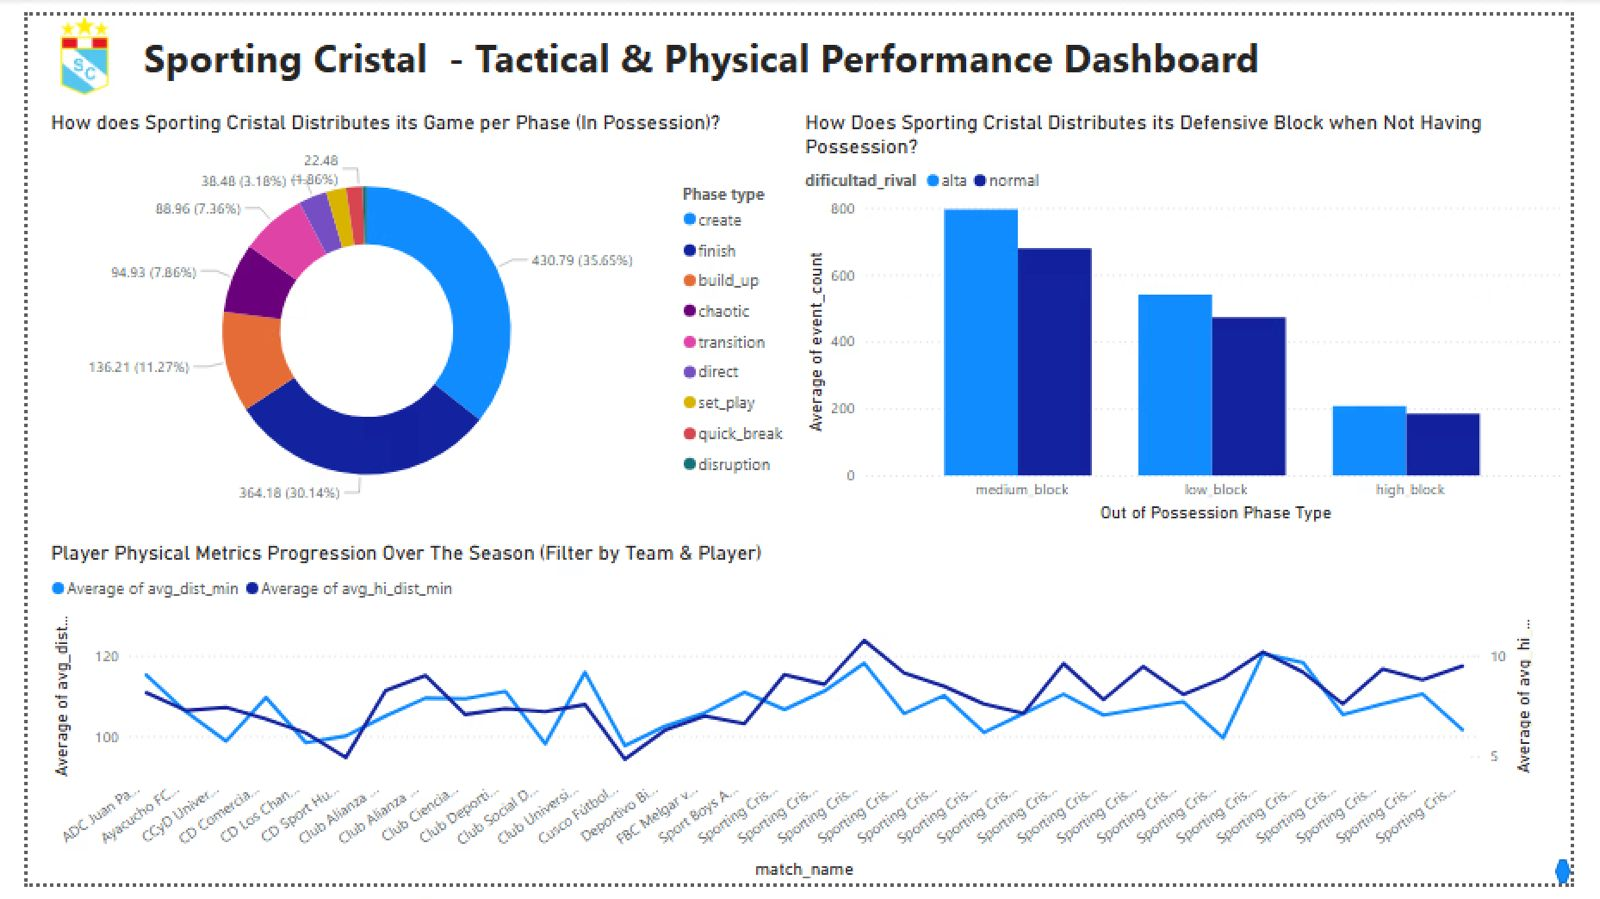

Layout of this report page (visuals, bound fields, positions):
{"tool":"powerbi","page":{"name":"Vista Principal","canvas":[1280,720],"ordinal":0},"visuals":[{"type":"donutChart","title":"How does Sporting Cristal Distributes its Game per Phase (In Possession)?","fields":{"Category":["agg_possession_stats.team_in_possession_phase_type"],"Y":["Sum(agg_possession_stats.total_duration_minutes)"]},"box":[13.6,79.1,625.9,346.4],"z":0},{"type":"clusteredColumnChart","title":"How Does Sporting Cristal Distributes its Defensive Block when Not Having Possession?","fields":{"Category":["agg_defensive_blocks.team_out_of_possession_phase_type"],"Y":["Avg(agg_defensive_blocks.event_count)"],"Series":["agg_defensive_blocks.dificultad_rival"]},"box":[639.5,79.1,640.9,346.4],"z":1000},{"type":"lineChart","title":"Player Physical Metrics Progression Over The Season (Filter by Team & Player)","fields":{"Category":["agg_player_evolution.match_name","agg_player_evolution.match_date_dt.Variation.Date Hierarchy.Year","agg_player_evolution.match_date_dt.Variation.Date Hierarchy.Quarter","agg_player_evolution.match_date_dt.Variation.Date Hierarchy.Month","agg_player_evolution.match_date_dt.Variation.Date Hierarchy.Day"],"Y":["Avg(agg_player_evolution.avg_dist_min)"],"Y2":["Avg(agg_player_evolution.avg_hi_dist_min)"]},"box":[13.6,435,1238.2,285],"z":2000},{"type":"textbox","box":[80.5,9.5,990,58.6],"z":3000},{"type":"shape","box":[4.1,6.8,76.4,65.5],"z":3001}]}

Visuals, with their boxes in screenshot pixels (x1, y1, x2, y2), scaled from the page's 1280x720 canvas onto the 1600x899 screenshot:
"How does Sporting Cristal Distributes its Game per Phase (In Possession)?" donutChart: [left=17, top=99, right=799, bottom=531]
"How Does Sporting Cristal Distributes its Defensive Block when Not Having Possession?" clusteredColumnChart: [left=799, top=99, right=1599, bottom=531]
"Player Physical Metrics Progression Over The Season (Filter by Team & Player)" lineChart: [left=17, top=543, right=1565, bottom=898]
textbox: [left=101, top=12, right=1338, bottom=85]
shape: [left=5, top=8, right=101, bottom=90]
